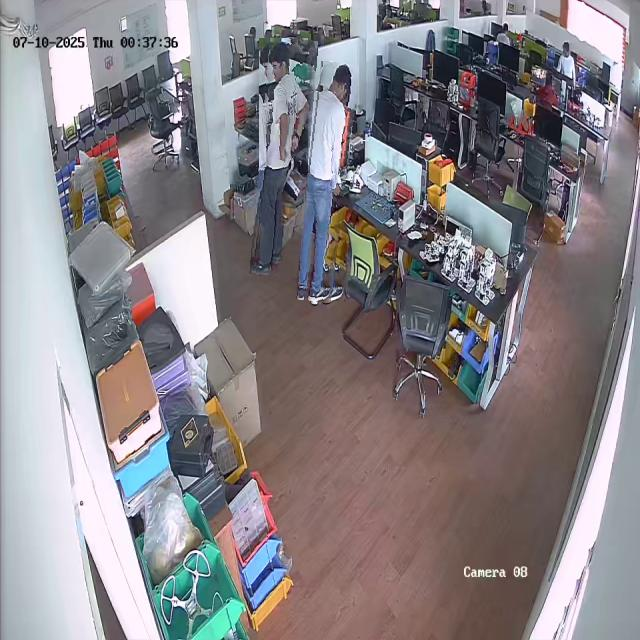person: (254, 38, 313, 277), (299, 61, 352, 303)
